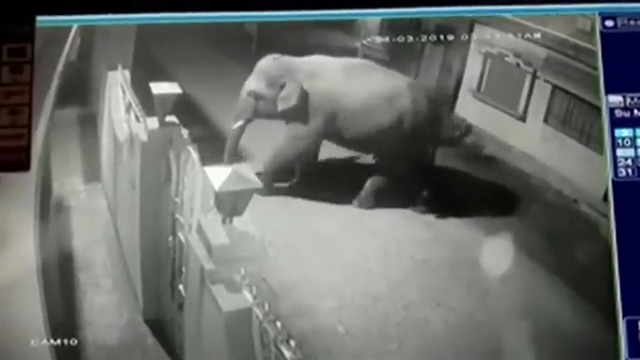Elephant: (224, 54, 439, 216)
